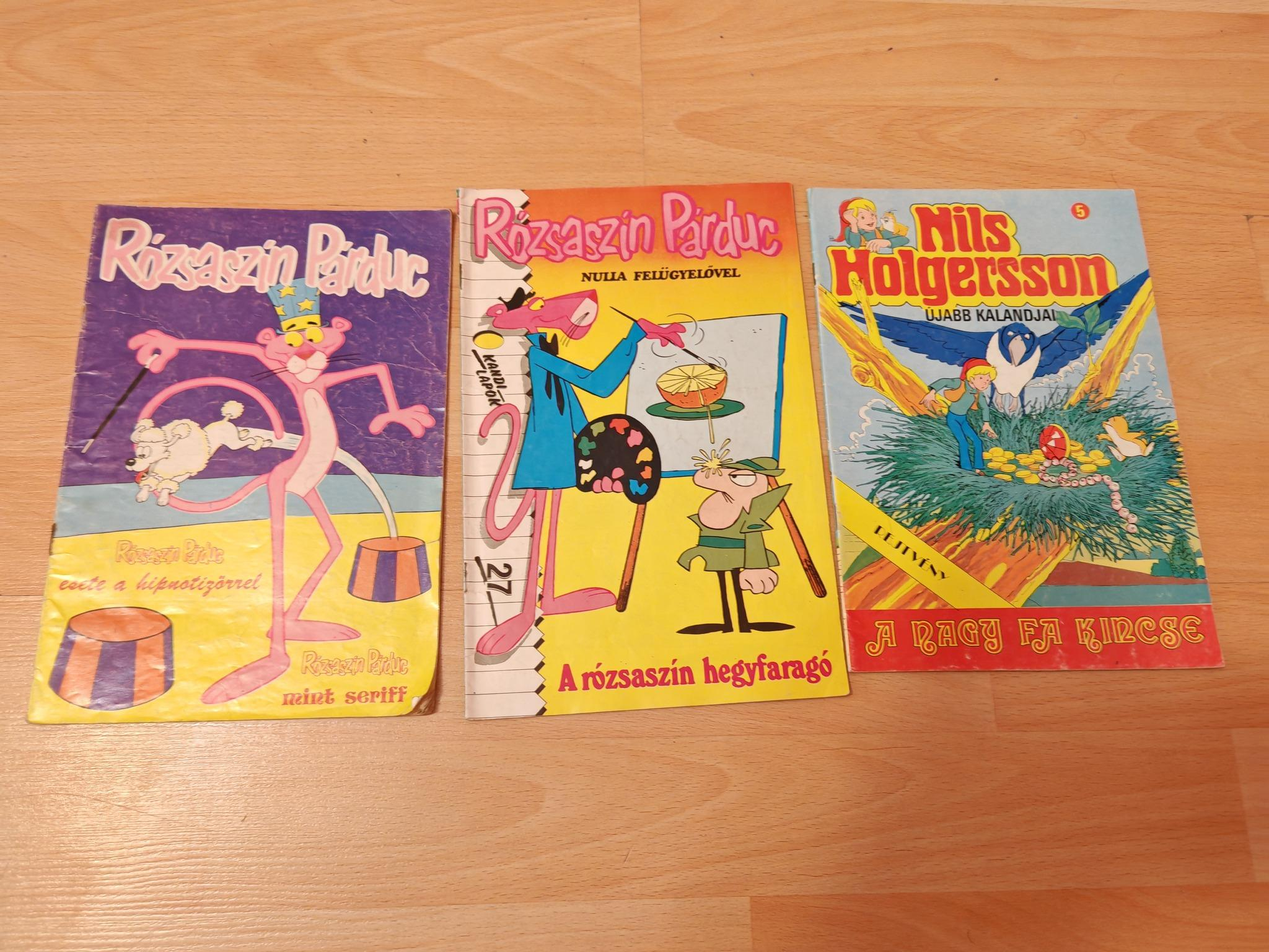comic: (29, 197, 452, 735), (806, 157, 1221, 698), (458, 183, 847, 717)
